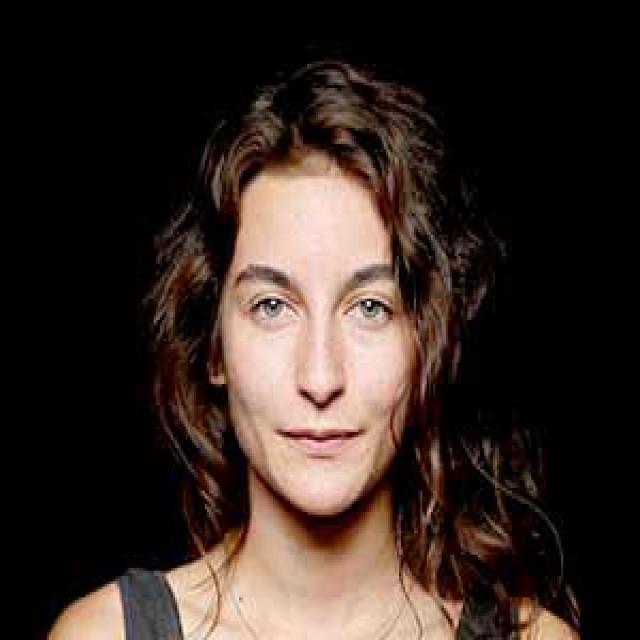mobile_phonerotation: (26, 53, 604, 638)
